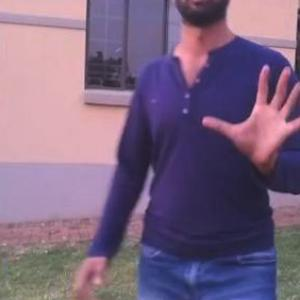follow_hand: (200, 57, 299, 175)
